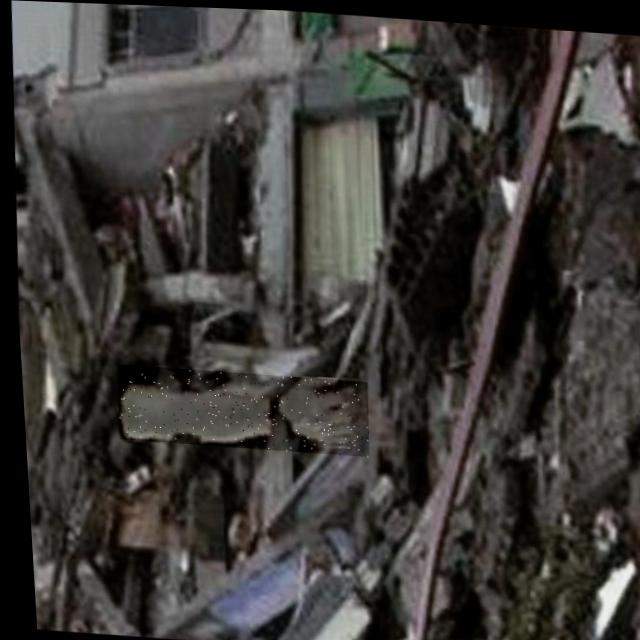Person in Rubble: (110, 362, 366, 453)
